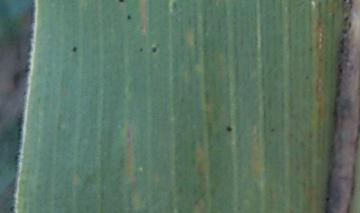tarspot: (224, 121, 235, 135), (149, 43, 160, 56), (124, 11, 134, 23), (71, 43, 79, 57), (138, 44, 145, 55), (115, 1, 126, 5)
